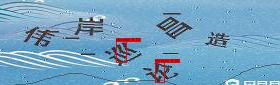chinese: (154, 14, 195, 42), (140, 61, 184, 85), (74, 14, 108, 38), (108, 43, 139, 67), (26, 23, 54, 48), (207, 31, 233, 51)
